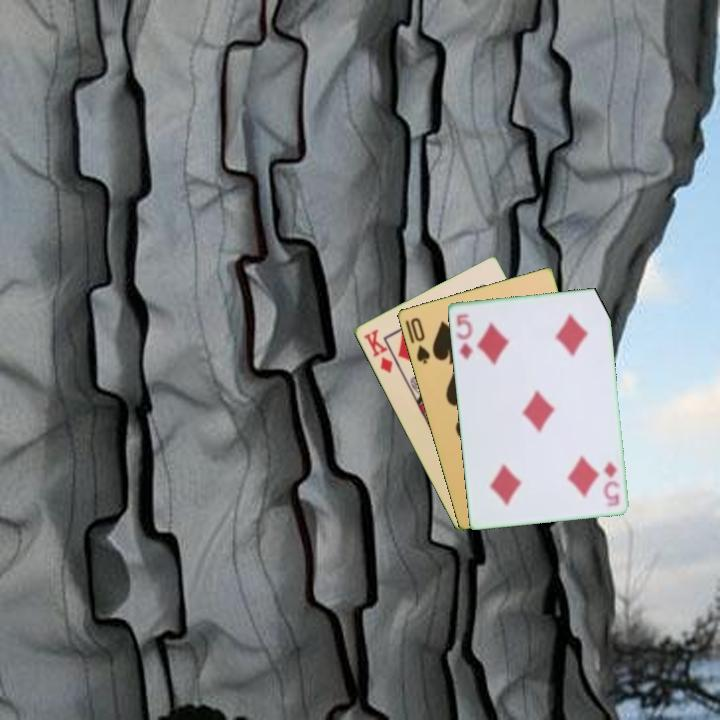10s: (406, 314, 433, 367)
5d: (452, 310, 475, 362), (600, 458, 622, 509)
Kd: (359, 326, 395, 376)
